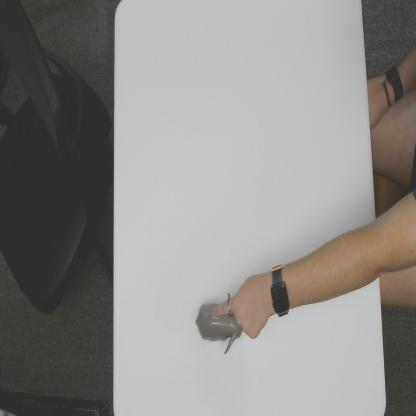Arm: (291, 220, 378, 308)
Elephant: (195, 294, 244, 356)
Hand: (211, 270, 269, 342)
